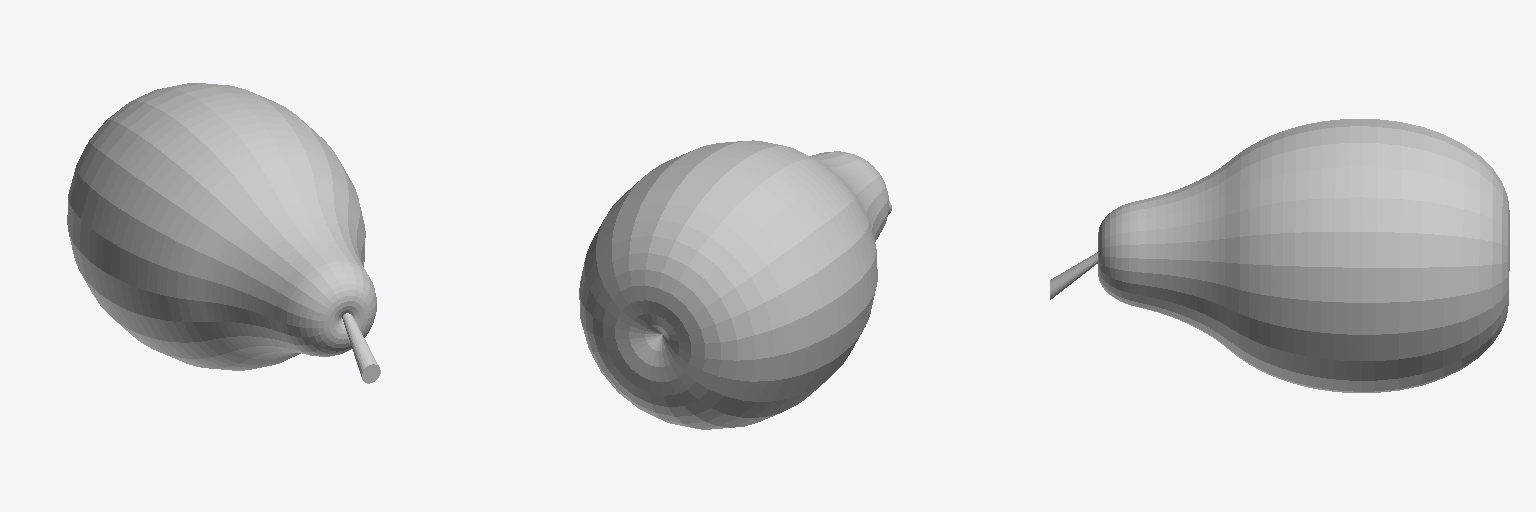
The model's file is pear1.obj.
The picture shows the model from 3 angles: view 1: azimuth 30°, elevation 25°; view 2: azimuth 150°, elevation 25°; view 3: azimuth 270°, elevation 25°; orthographic projection.
Bounding box in the file's own units: 0.045 × 0.045 × 0.0753.